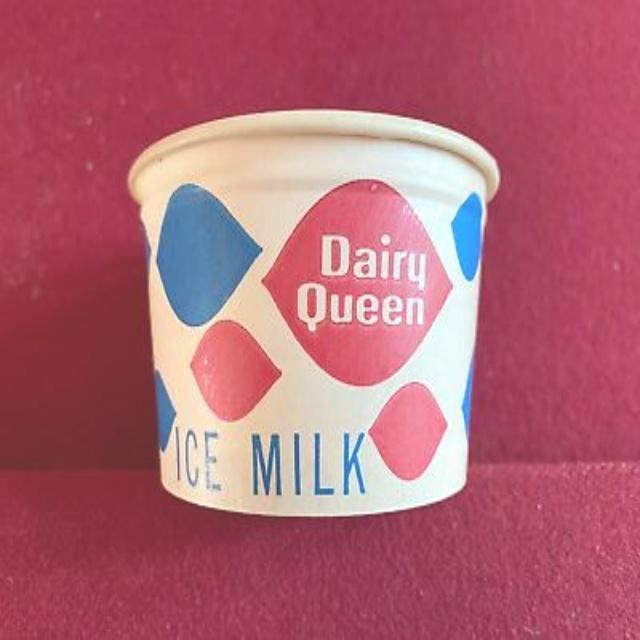paper_cup: (96, 99, 534, 577)
